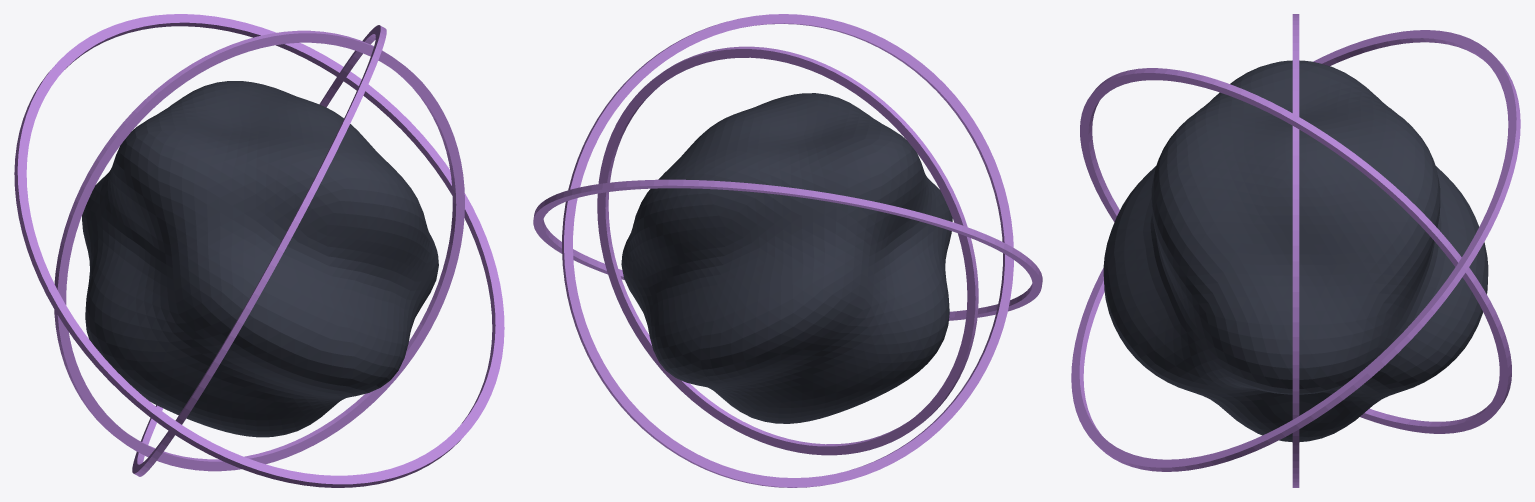
The model's file is gpu-artifact.glb.
The picture shows the model from 3 angles, left to right: view 1: azimuth 30°, elevation 25°; view 2: azimuth 150°, elevation 25°; view 3: azimuth 270°, elevation 25°; orthographic projection. The views are drawn at different scales.
Parts seen in each view (by area): view 1: likeness-desk_obsidian_core, likeness-desk_orbital_ring_2, likeness-desk_orbital_ring_0, likeness-desk_orbital_ring_1; view 2: likeness-desk_obsidian_core, likeness-desk_orbital_ring_1, likeness-desk_orbital_ring_0, likeness-desk_orbital_ring_2; view 3: likeness-desk_obsidian_core, likeness-desk_orbital_ring_2, likeness-desk_orbital_ring_1, likeness-desk_orbital_ring_0.
Boxes of the visible parts, x1,y1,x2,y2 form: likeness-desk_obsidian_core: (82, 81, 438, 437); likeness-desk_orbital_ring_2: (14, 14, 504, 487); likeness-desk_orbital_ring_0: (54, 30, 464, 471); likeness-desk_orbital_ring_1: (132, 25, 386, 476); likeness-desk_obsidian_core: (621, 93, 952, 423); likeness-desk_orbital_ring_1: (562, 14, 1013, 487); likeness-desk_orbital_ring_0: (597, 46, 978, 455); likeness-desk_orbital_ring_2: (533, 179, 1042, 320); likeness-desk_obsidian_core: (1103, 60, 1488, 442); likeness-desk_orbital_ring_2: (1071, 30, 1520, 471); likeness-desk_orbital_ring_1: (1080, 68, 1511, 433); likeness-desk_orbital_ring_0: (1292, 14, 1299, 487).
Bounding box in the file's own units: 3.18 × 2.76 × 2.62.
